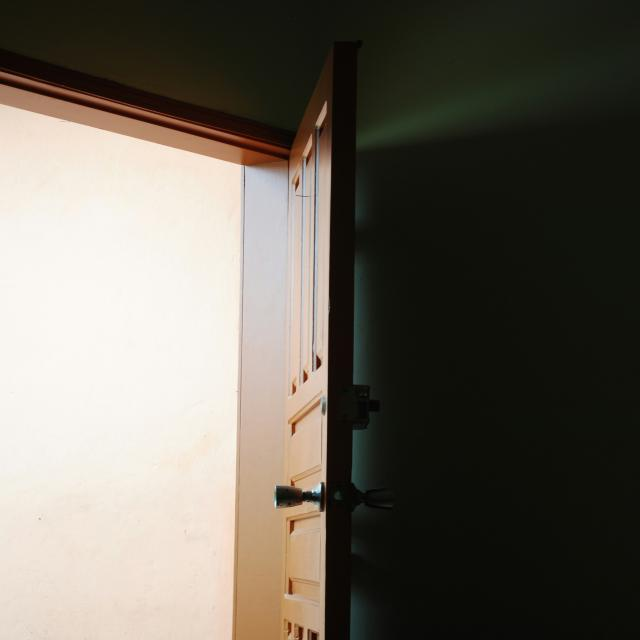door-knob: (274, 482, 323, 511), (351, 484, 394, 510)
